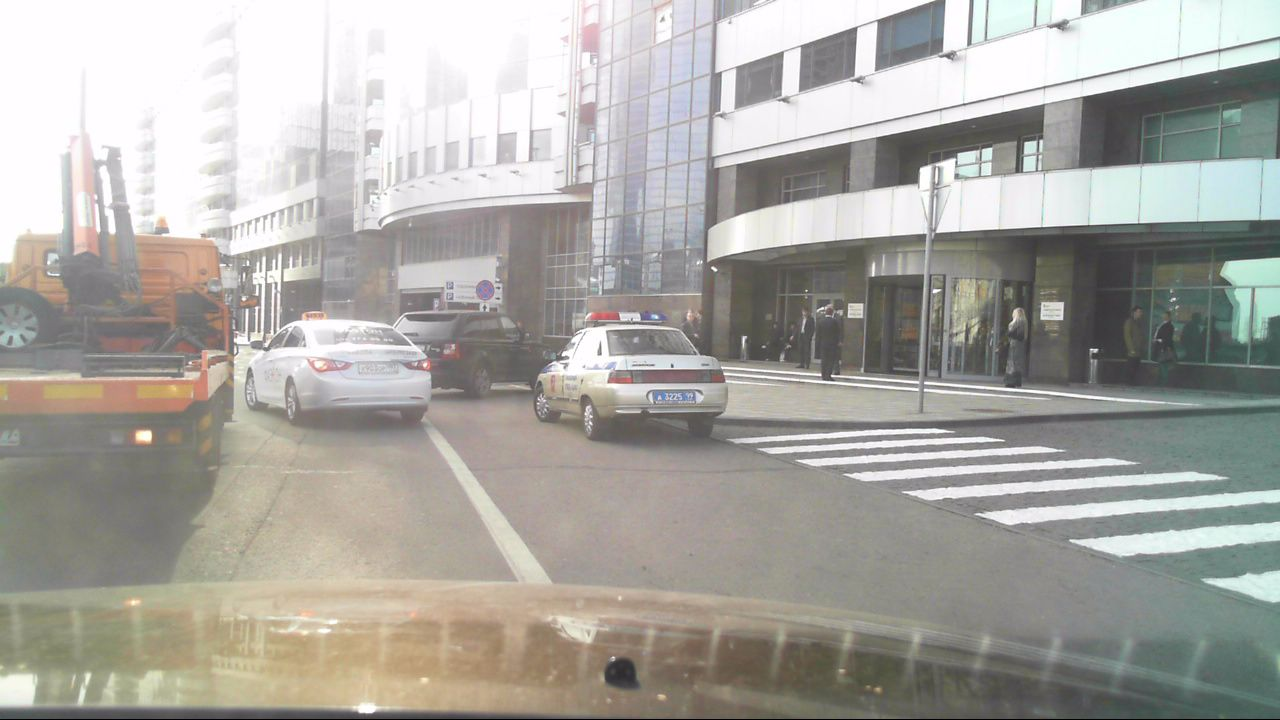No Parking: (476, 278, 494, 301)
